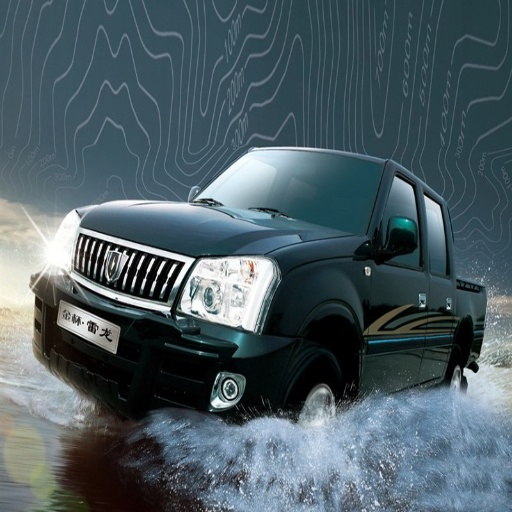front_bumper: (43, 234, 291, 418)
front_glass: (194, 154, 382, 232)
front_left_door: (366, 168, 429, 355)
